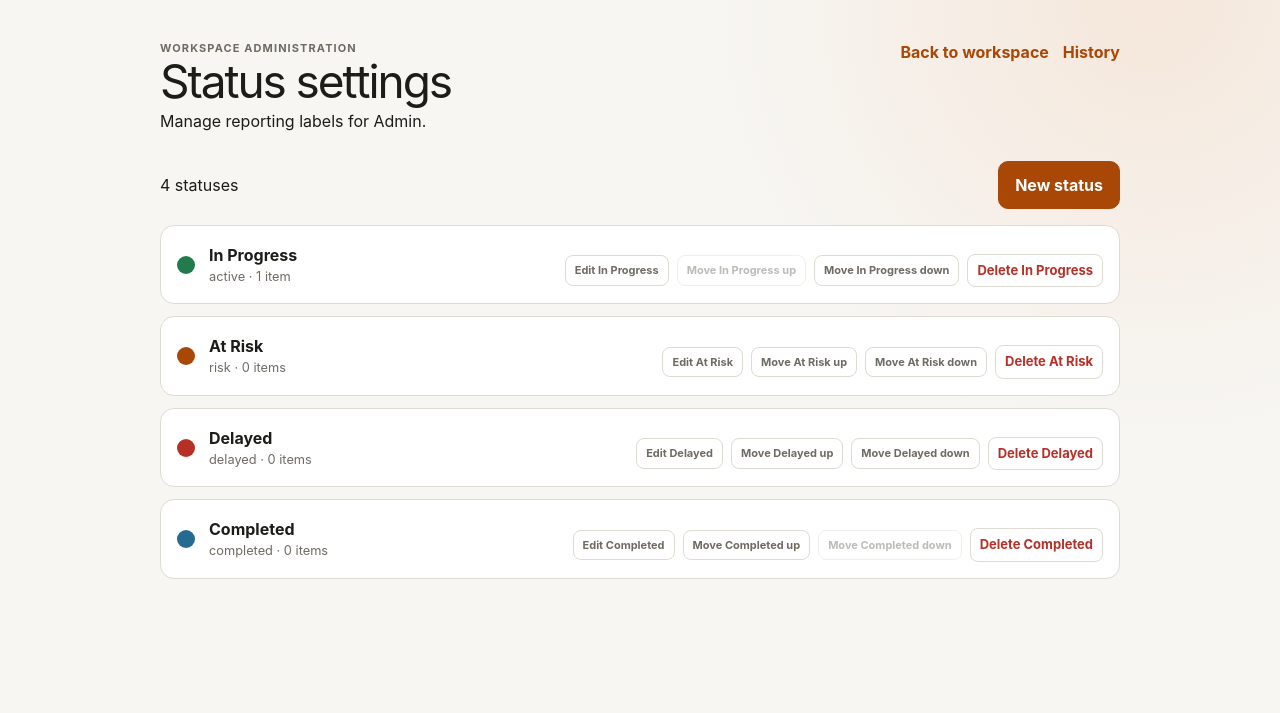
it: StatusManager › detects an already-applied status create by its stable ID
The image size is (1280, 713).
Click the button "New status" at (1059, 185), box [998, 161, 1120, 209]
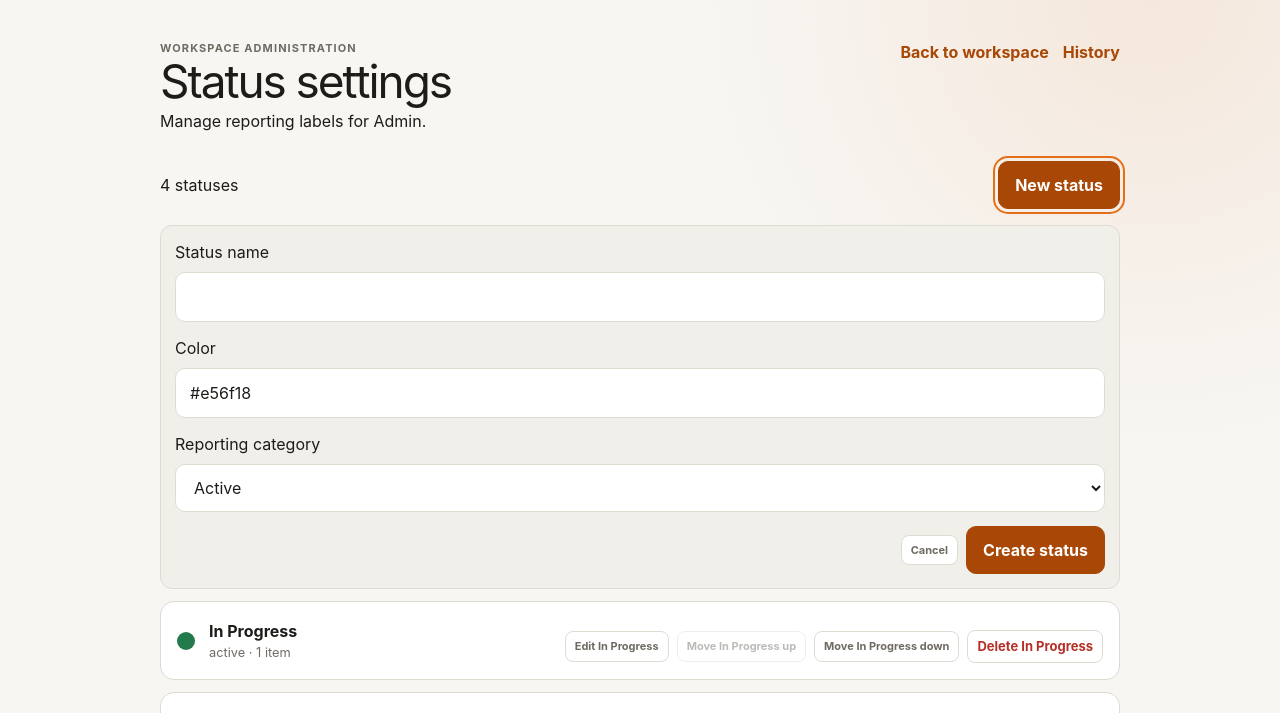
Type "Review" into the field labelled "Status name" at (640, 297), box [175, 272, 1105, 322]
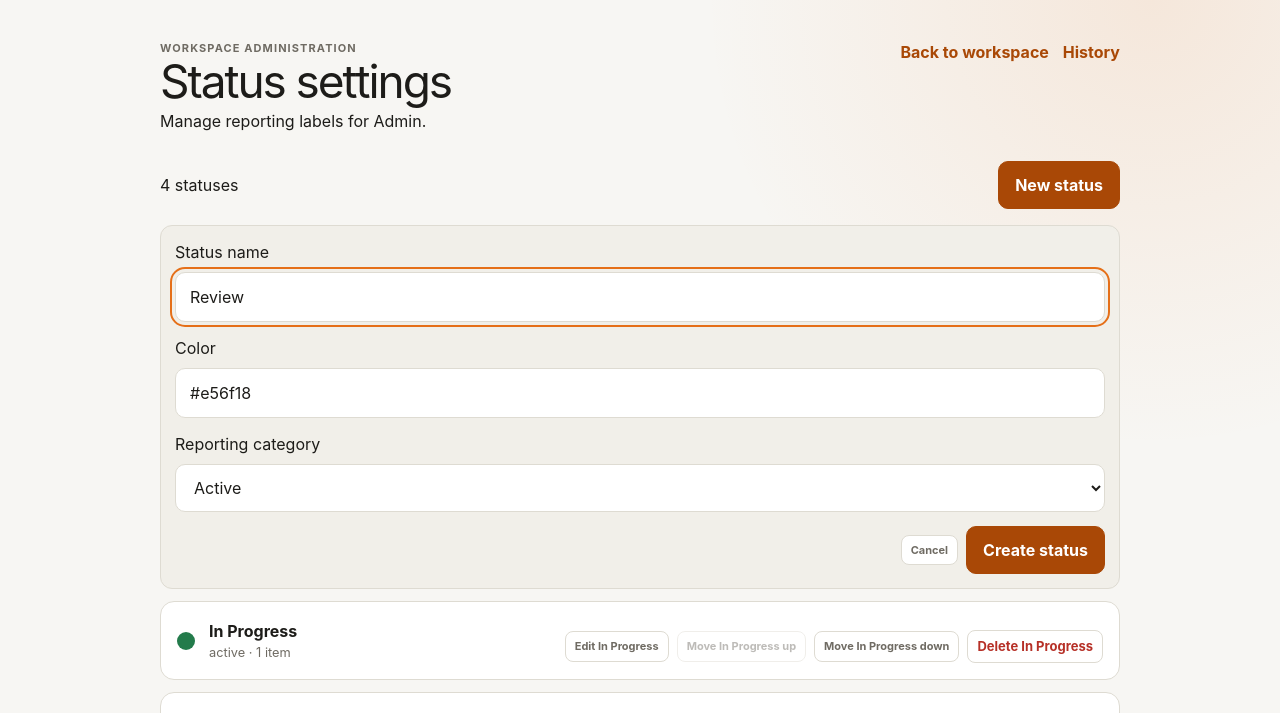
Click the button "Create status" at (1036, 550), box [966, 526, 1105, 574]
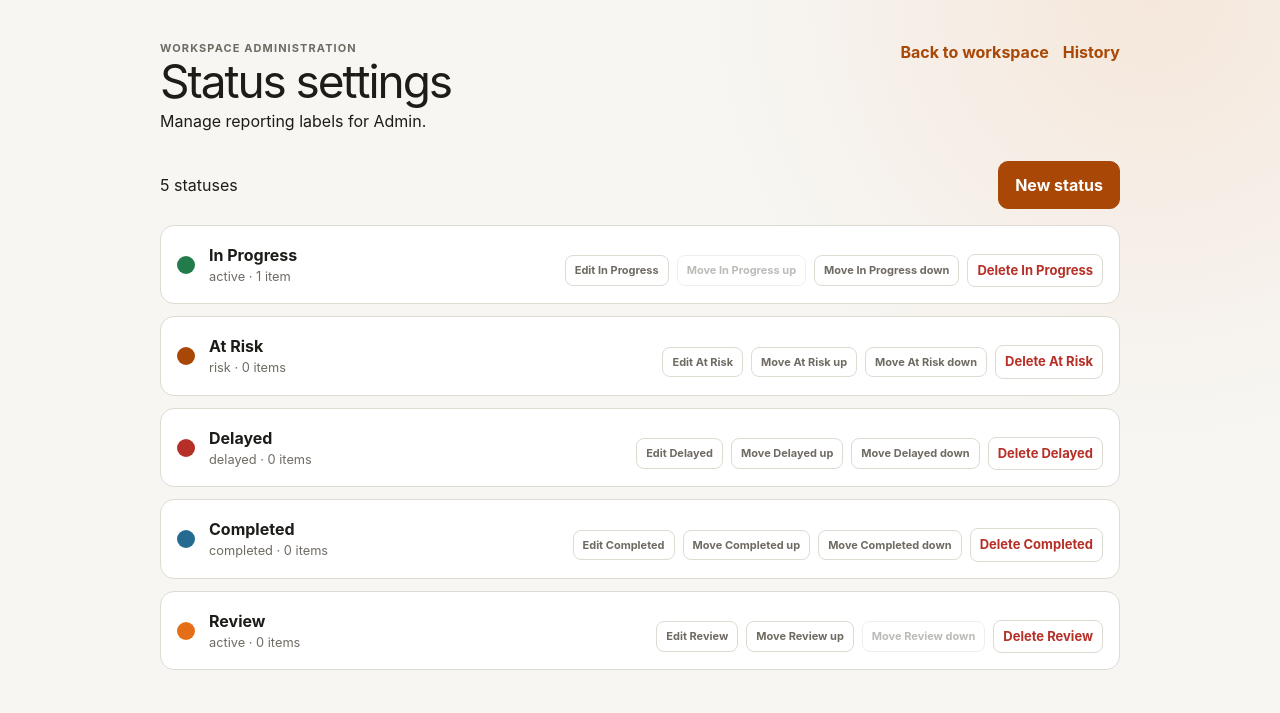
Expected: the text "Review" is shown, [209, 611, 265, 631]
